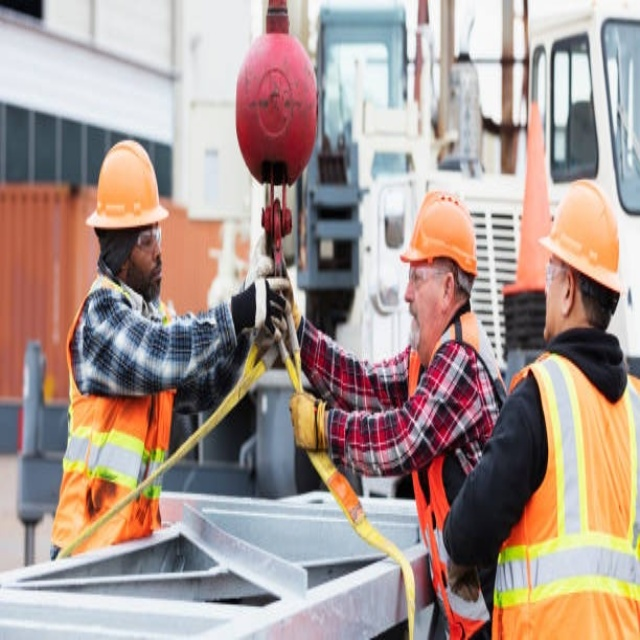Gafas: (408, 264, 451, 287), (545, 259, 571, 288), (133, 226, 162, 249)
Guantes: (237, 277, 291, 342), (289, 392, 332, 452)
Sin_mascara: (406, 296, 427, 346), (147, 253, 167, 298)
